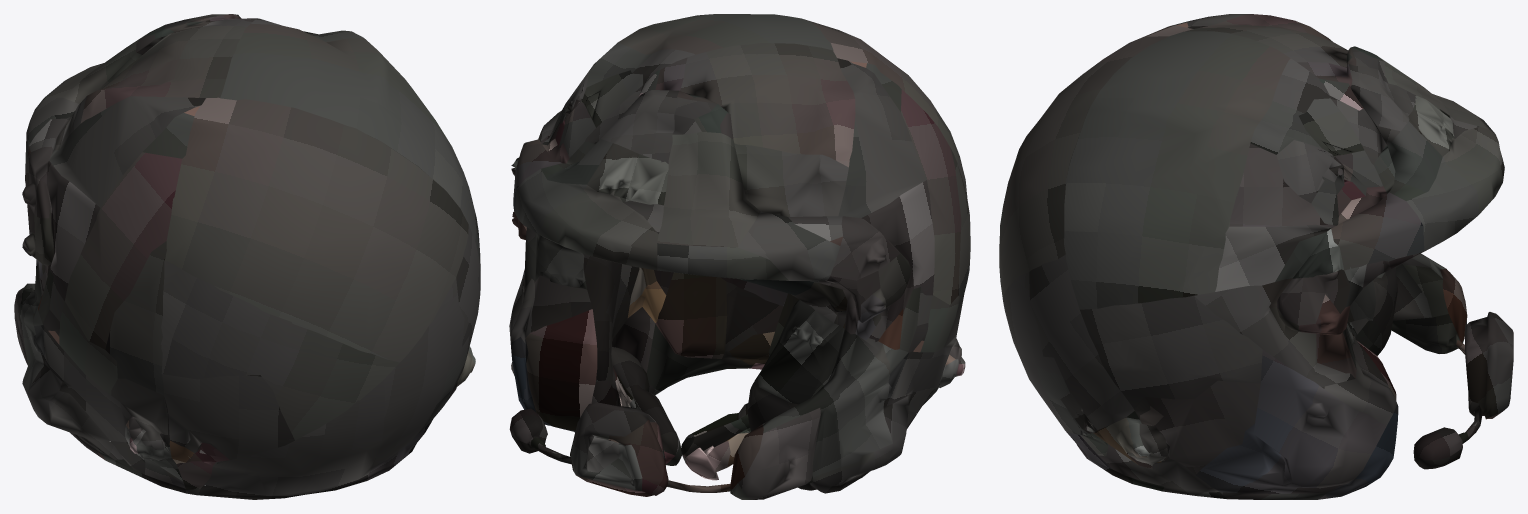
Rendered from helmet-wire.glb.
3 views of the same model, side by side, from view 1: azimuth 30°, elevation 25°; view 2: azimuth 150°, elevation 25°; view 3: azimuth 270°, elevation 25° (orthographic).
Parts seen in each view (by area): view 1: tripo_node_d14165b7-6f31-4d23-82b4-57e609ff6e0f; view 2: tripo_node_d14165b7-6f31-4d23-82b4-57e609ff6e0f; view 3: tripo_node_d14165b7-6f31-4d23-82b4-57e609ff6e0f.
Part boxes in pixels (x1,y1,x2,y2): tripo_node_d14165b7-6f31-4d23-82b4-57e609ff6e0f: (14, 14, 480, 499); tripo_node_d14165b7-6f31-4d23-82b4-57e609ff6e0f: (509, 14, 970, 499); tripo_node_d14165b7-6f31-4d23-82b4-57e609ff6e0f: (999, 14, 1513, 499).
Bounding box in the file's own units: 0.8364 × 0.8214 × 0.9783.
1 material, 1 textured.
